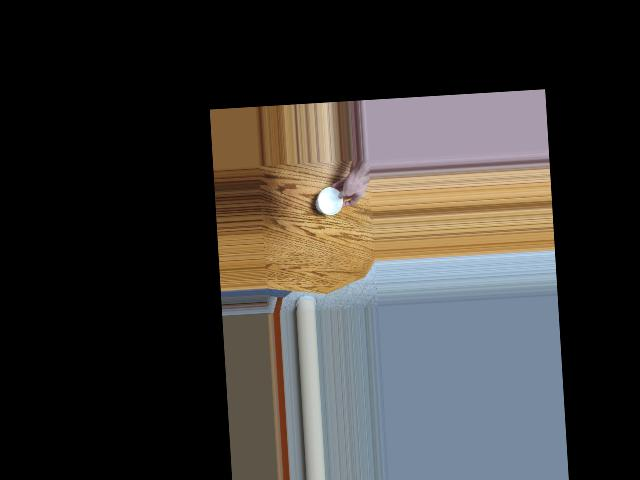cotage: (316, 186, 345, 220)
